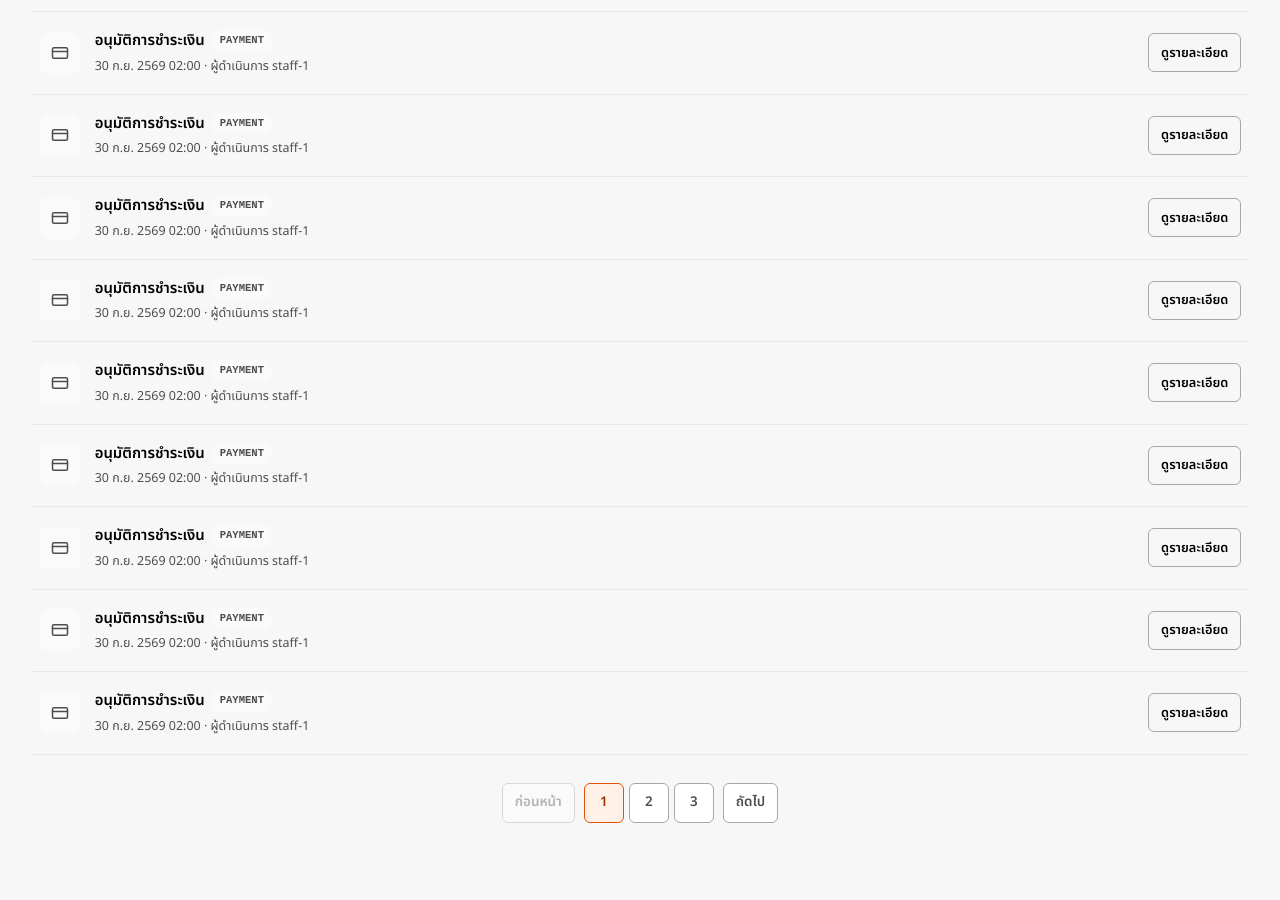
Scenario: AuditView › shows only ten activities on each numbered page and preserves earlier pages
(page scrolled)
Click the button named "หน้า 2" at (649,803), box top-left (629, 783), bottom-right (669, 823)
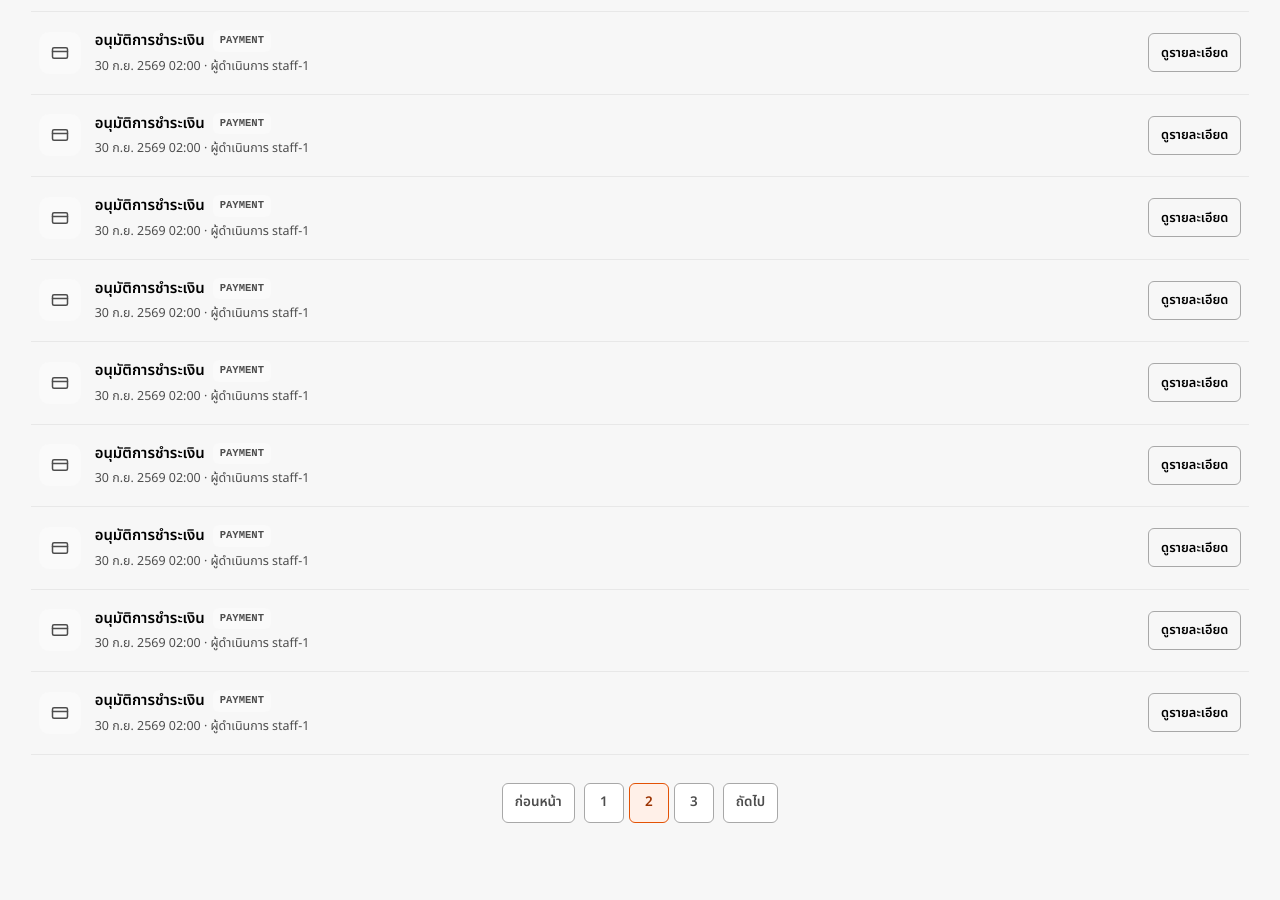
Click the button "ถัดไป" at (750,803), box top-left (723, 783), bottom-right (778, 823)
(page scrolled)
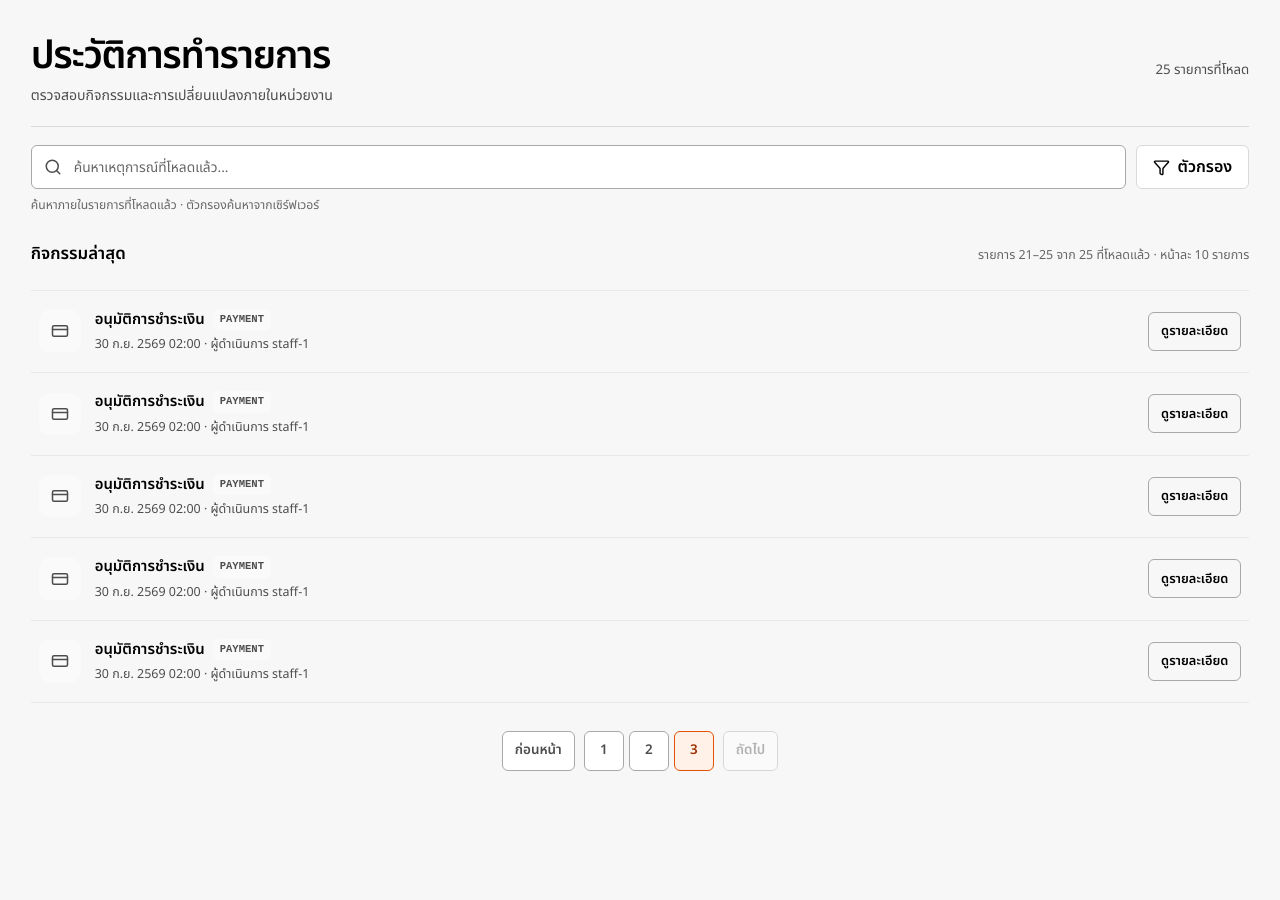
Result: the number of list items is 5 at top-left (31, 290), bottom-right (1249, 373); top-left (31, 373), bottom-right (1249, 456); top-left (31, 456), bottom-right (1249, 538); top-left (31, 538), bottom-right (1249, 621); top-left (31, 621), bottom-right (1249, 703)
Result: the button with aria-label "ดูรายละเอียด PAYMENT_APPROVED audit-25" is shown at top-left (1148, 642), bottom-right (1241, 681)
Result: the button "ถัดไป" is disabled at top-left (723, 731), bottom-right (778, 771)
Click the button "ก่อนหน้า" at (538,751), box top-left (502, 731), bottom-right (575, 771)
(page scrolled)
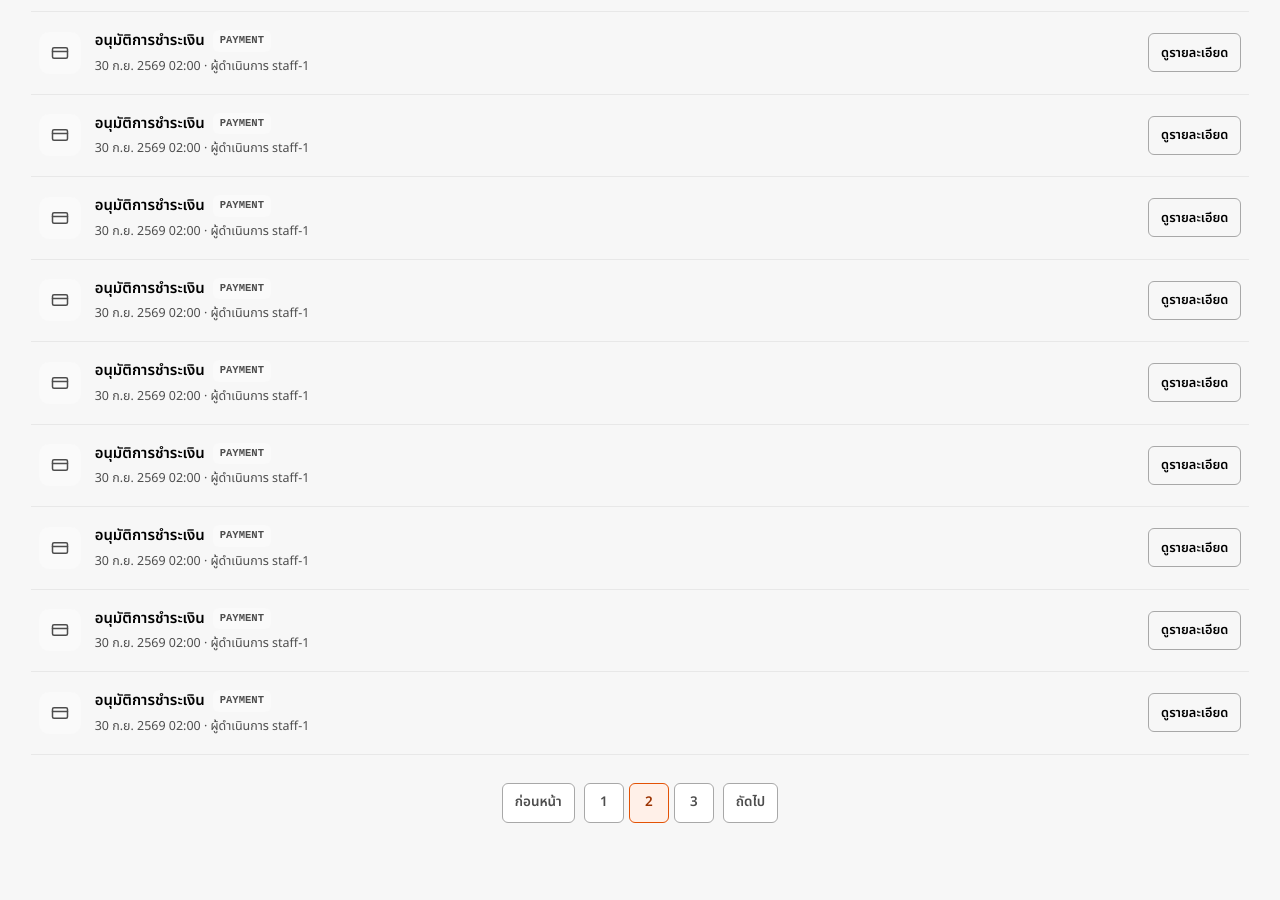
Result: the number of list items is 10
